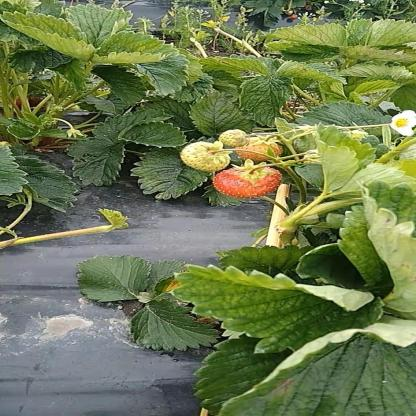ripe: (210, 166, 284, 200)
unripe: (179, 140, 228, 172), (233, 136, 282, 162), (219, 128, 248, 147)
